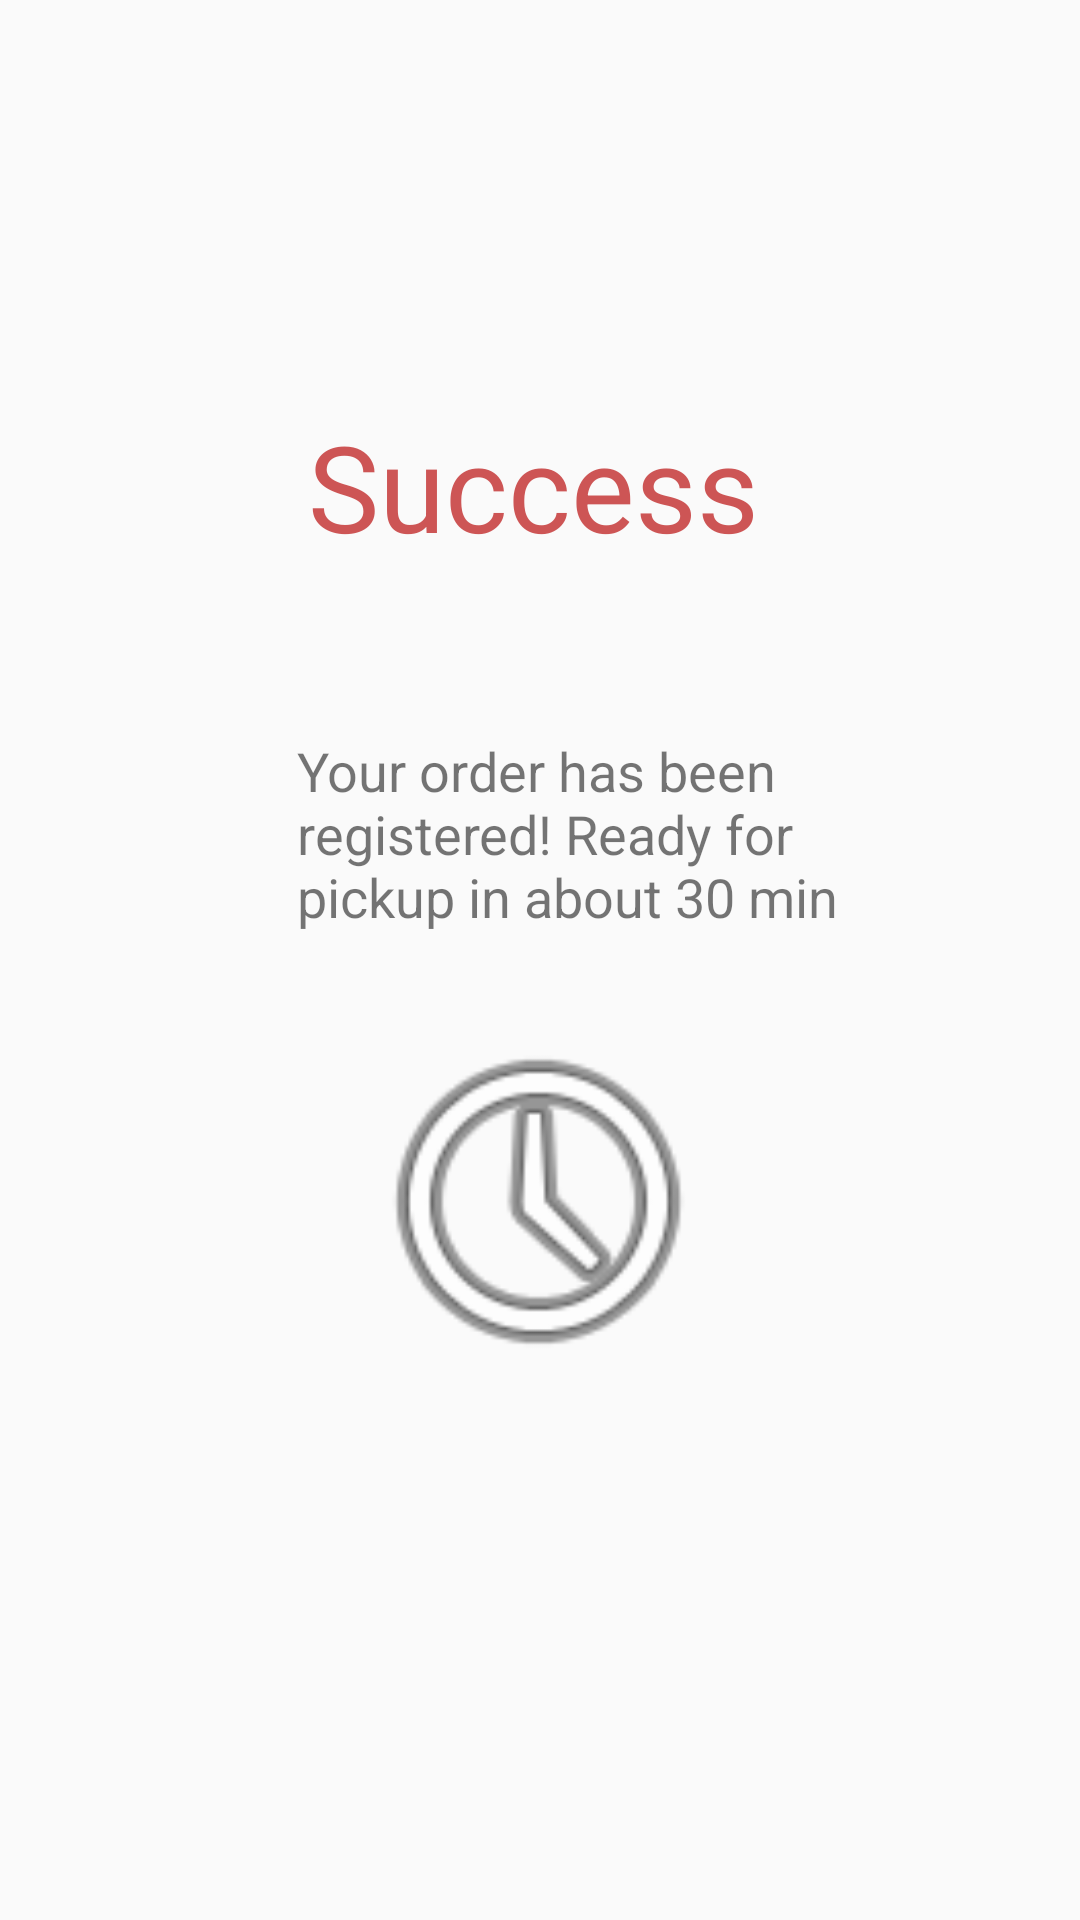

Named icons in this screenshot (1080px×1920px) and their bounding boxes, (x1, y1, x2, y2):
recent history: (396, 1059, 681, 1344)
